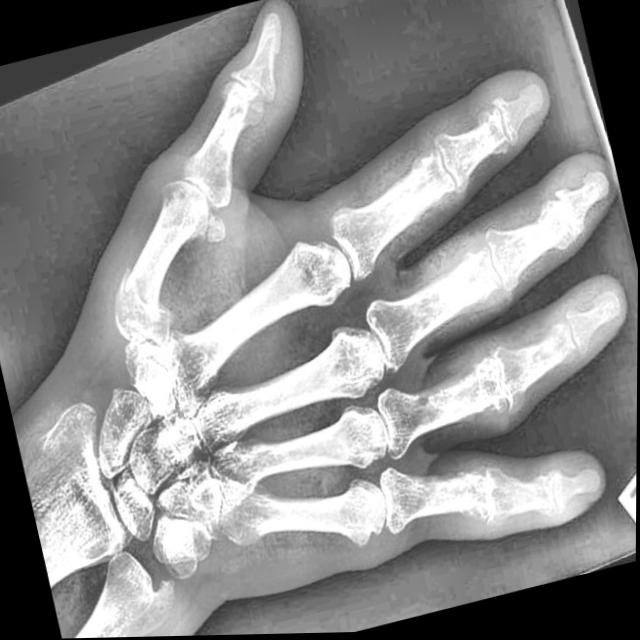fracture: (464, 346, 523, 432), (110, 260, 174, 330), (452, 460, 503, 536), (239, 95, 266, 126)
